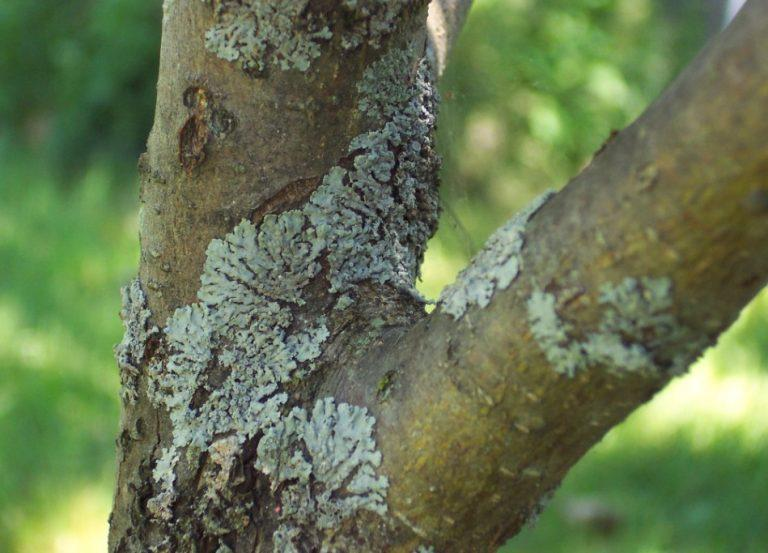lichen: (152, 51, 433, 551), (258, 397, 387, 528), (527, 276, 687, 377), (439, 191, 553, 318), (205, 0, 332, 75), (115, 277, 158, 404)
